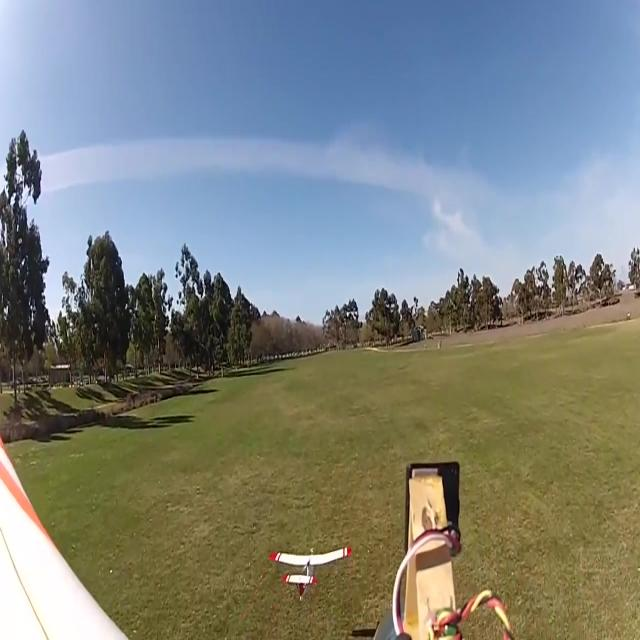iha: (299, 546, 320, 602)
